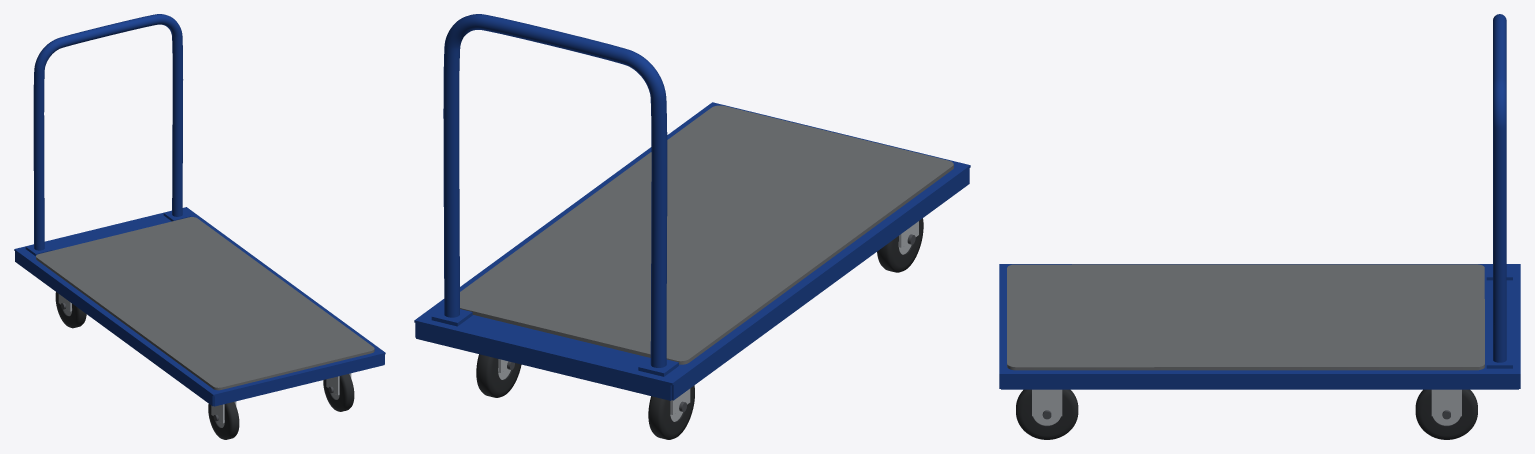
File: platform-truck.glb
The picture shows the model from 3 angles, left to right: view 1: azimuth 30°, elevation 25°; view 2: azimuth 150°, elevation 25°; view 3: azimuth 270°, elevation 25°; orthographic projection. The views are drawn at different scales.
Parts seen in each view (by area): view 1: mat, handle_tube, Geom.035, Geom.039, Geom.040, tire.002, tire.003, tire; view 2: mat, handle_tube, Geom.035, Geom.039, Geom.038, tire, tire.001, tire.002; view 3: mat, Geom.041, Geom.035, handle_tube, tire.003, tire.001, Geom.011, Geom.025.
Boxes of the visible parts, bbox=[...] form: mat: bbox=[36, 217, 374, 390]; handle_tube: bbox=[33, 14, 183, 250]; Geom.035: bbox=[14, 207, 385, 396]; Geom.039: bbox=[15, 251, 213, 406]; Geom.040: bbox=[213, 354, 384, 406]; tire.002: bbox=[208, 402, 239, 439]; tire.003: bbox=[323, 374, 354, 411]; tire: bbox=[55, 292, 86, 328]; mat: bbox=[460, 105, 953, 364]; handle_tube: bbox=[443, 14, 667, 367]; Geom.035: bbox=[414, 102, 970, 385]; Geom.039: bbox=[671, 168, 969, 400]; Geom.038: bbox=[416, 323, 671, 400]; tire: bbox=[648, 385, 694, 439]; tire.001: bbox=[476, 354, 521, 397]; tire.002: bbox=[877, 218, 923, 272]; mat: bbox=[1007, 264, 1484, 370]; Geom.041: bbox=[1001, 375, 1518, 389]; Geom.035: bbox=[999, 264, 1520, 375]; handle_tube: bbox=[1493, 14, 1506, 362]; tire.003: bbox=[1016, 389, 1078, 439]; tire.001: bbox=[1415, 389, 1477, 439]; Geom.011: bbox=[1431, 389, 1461, 416]; Geom.025: bbox=[1032, 389, 1062, 416].
Bounding box in the file's own units: 0.6 × 0.9021 × 1.2.
